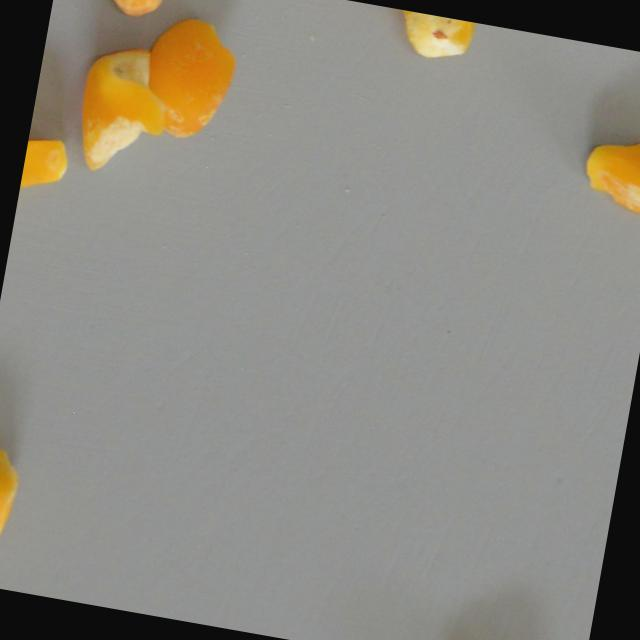dañado: (64, 38, 175, 180), (136, 9, 247, 145), (385, 8, 481, 64), (87, 0, 181, 29)
estandar: (15, 132, 73, 214)
pelicula: (571, 114, 640, 237), (0, 441, 39, 574)
